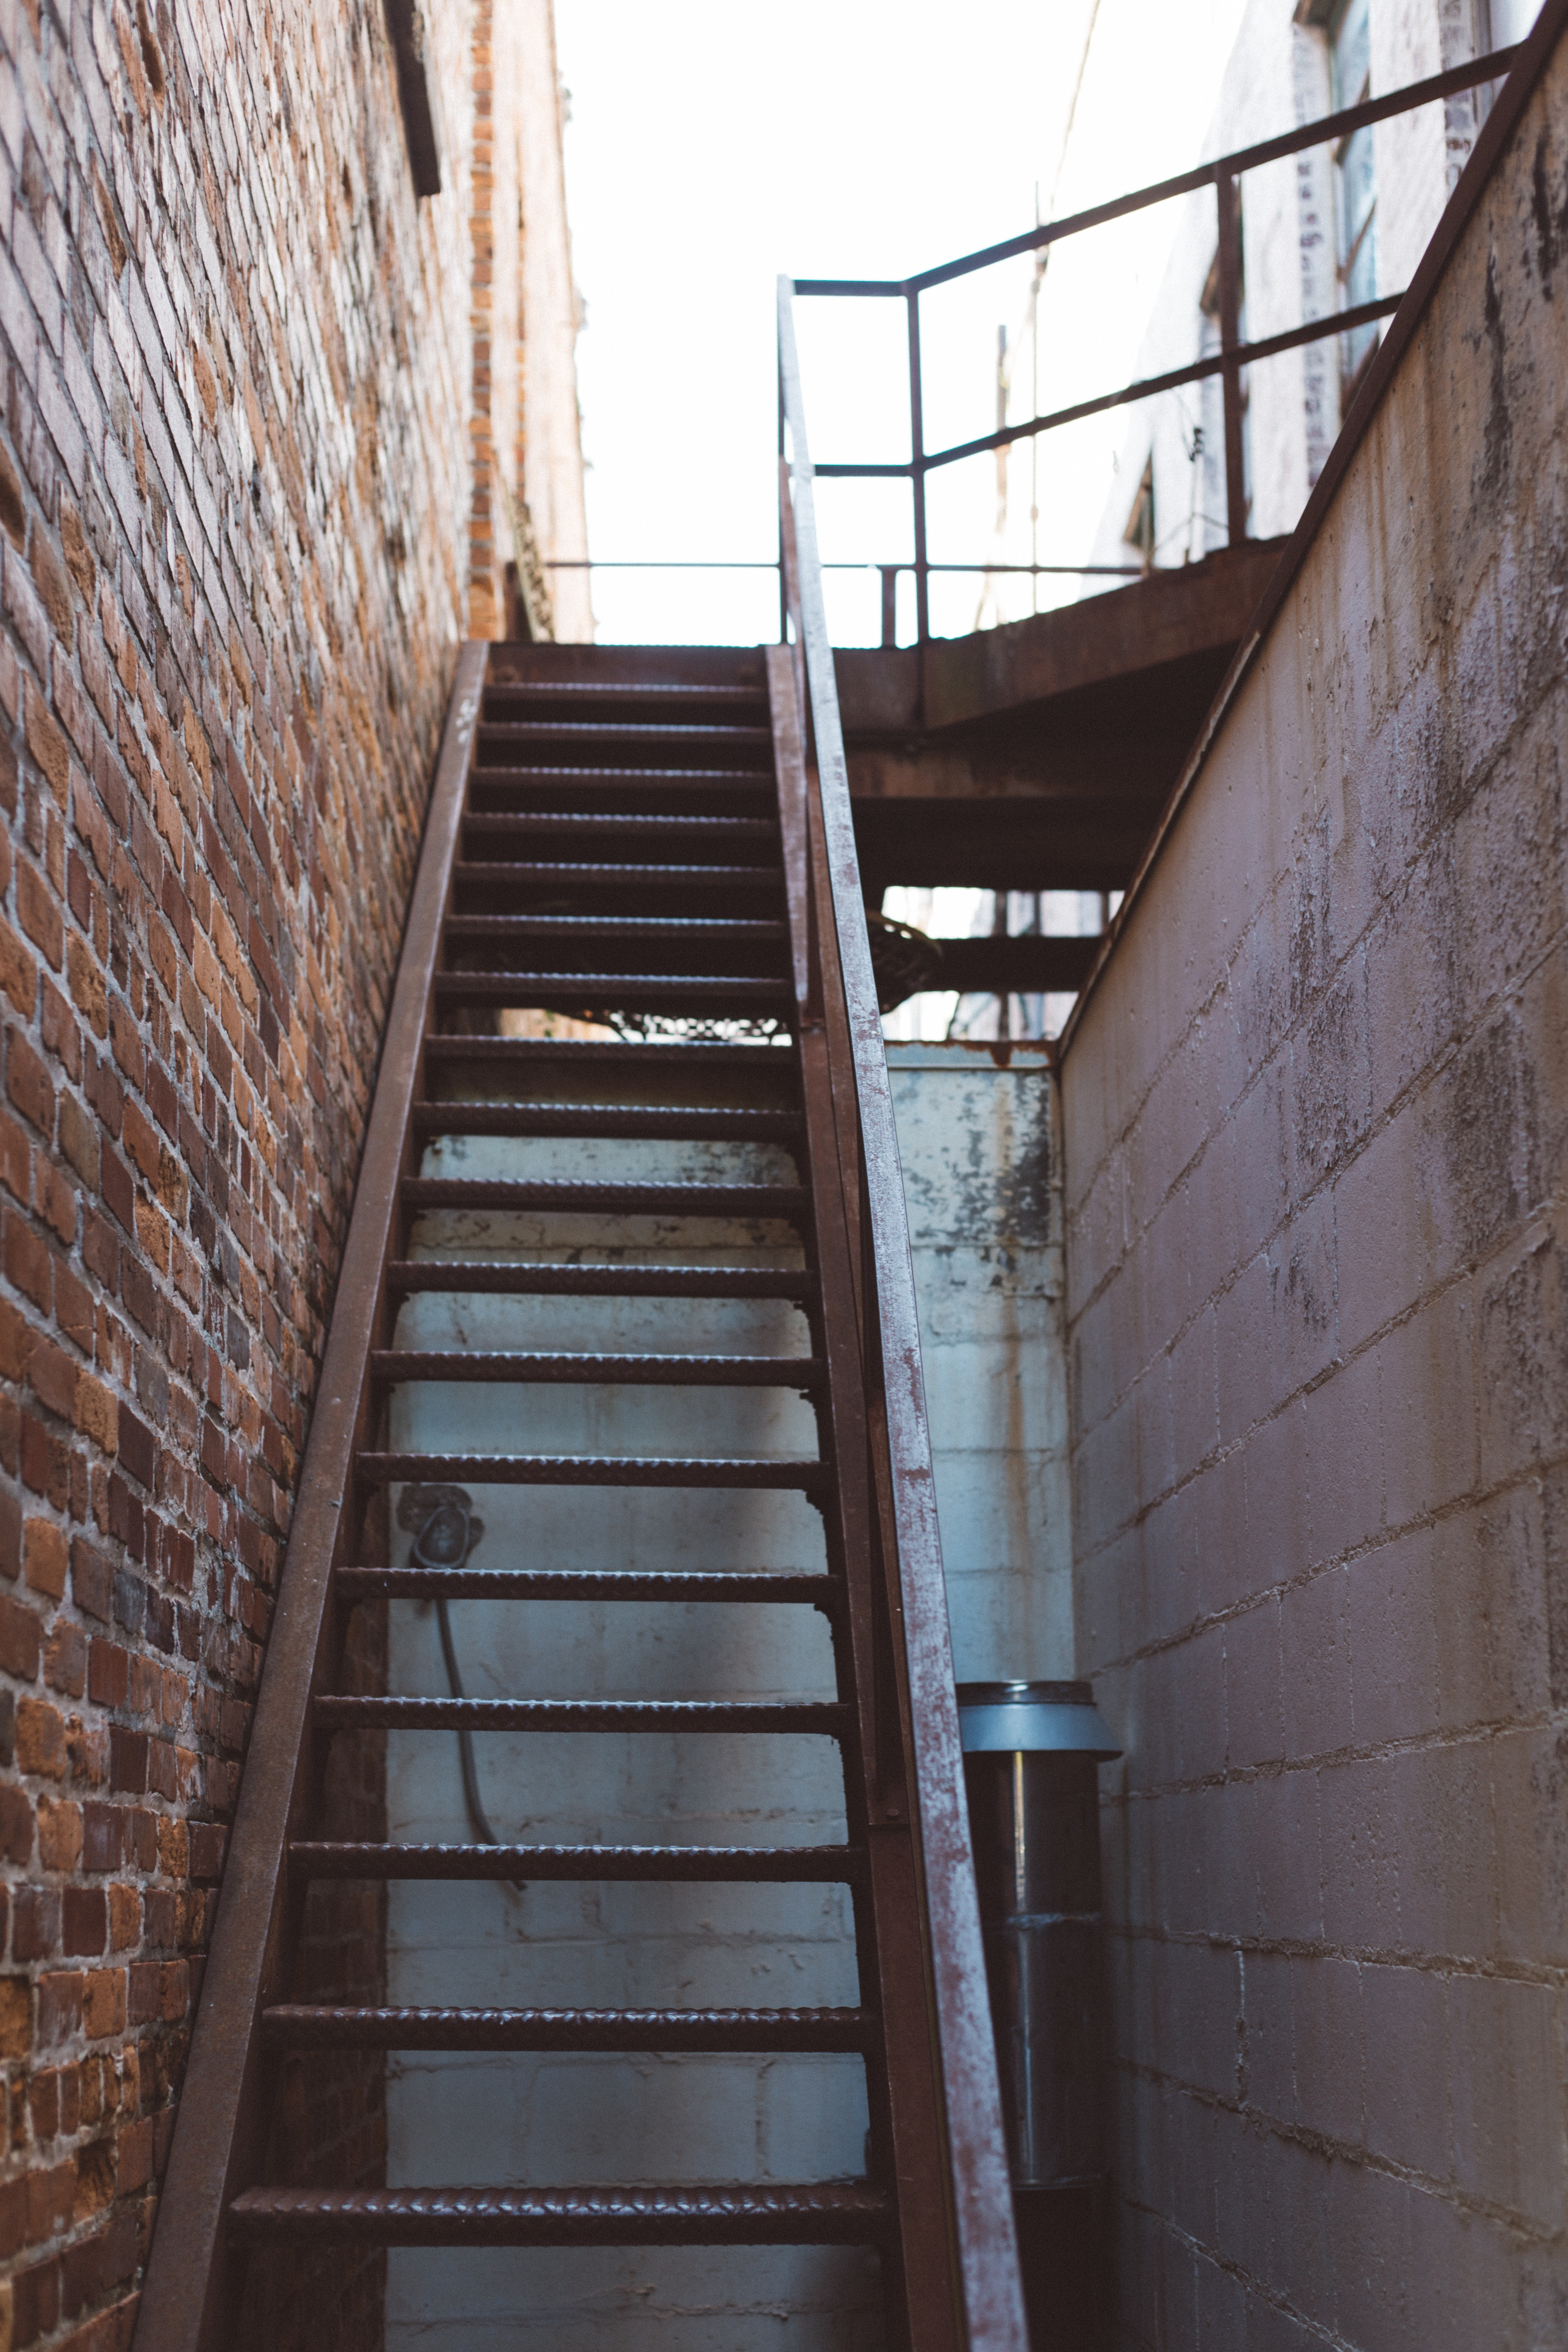upstairs: (341, 1561, 831, 2334)
